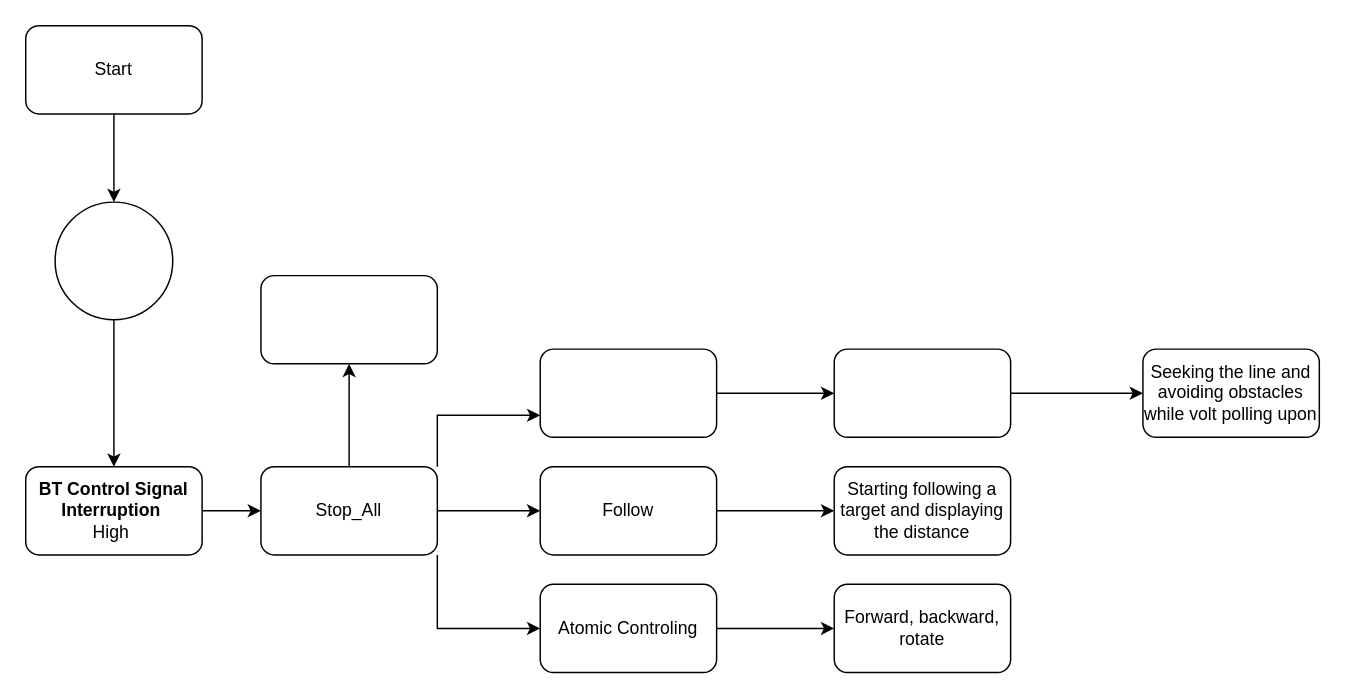
The diagram is 1345 pixels wide and 698 high, and some of its shapes have lost their labels. The shapes that lost their labels are listed below. From the top down, each one's box as (x1, y1, x2, y2) in pixels, then its label:
(54, 201, 173, 320): while( 1 )
(259, 274, 437, 364): Clear all states
(539, 348, 717, 437): Approaching
(833, 348, 1011, 437): PWM Motor Approaching Control Interruption
